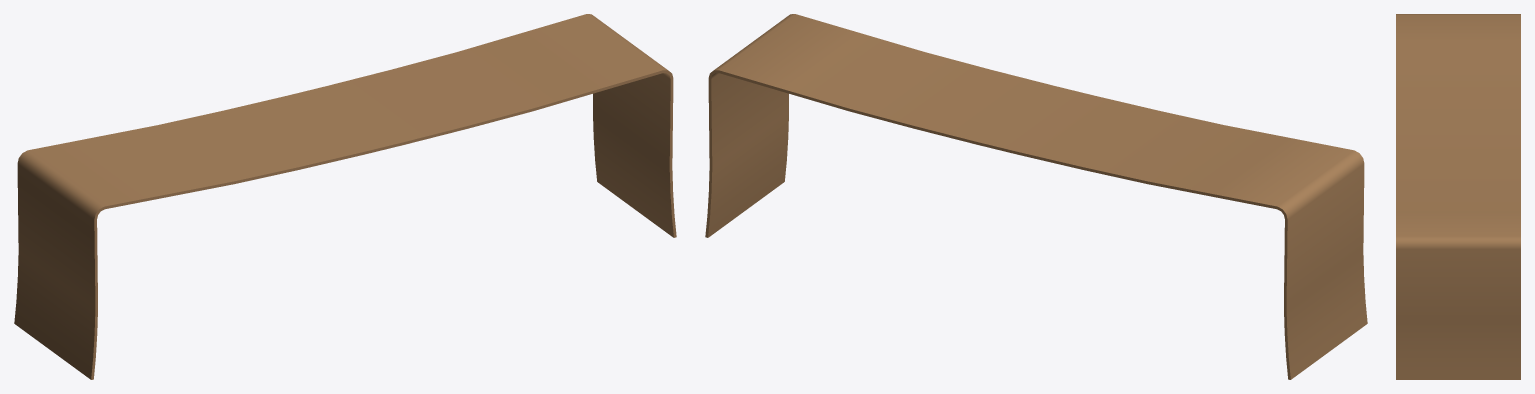
The model's file is coffee_table_2.FBX.
The picture shows the model from 3 angles, left to right: view 1: azimuth 30°, elevation 25°; view 2: azimuth 150°, elevation 25°; view 3: azimuth 270°, elevation 25°; orthographic projection. The views are drawn at different scales.
Visible parts, largest first — view 1: coffee_table_2; view 2: coffee_table_2; view 3: coffee_table_2.
Part boxes in pixels (x1,y1,x2,y2): coffee_table_2: [14, 14, 676, 379]; coffee_table_2: [705, 14, 1367, 379]; coffee_table_2: [1396, 14, 1520, 379].
Bounding box in the file's own units: 1.52 × 0.423 × 0.3455.
